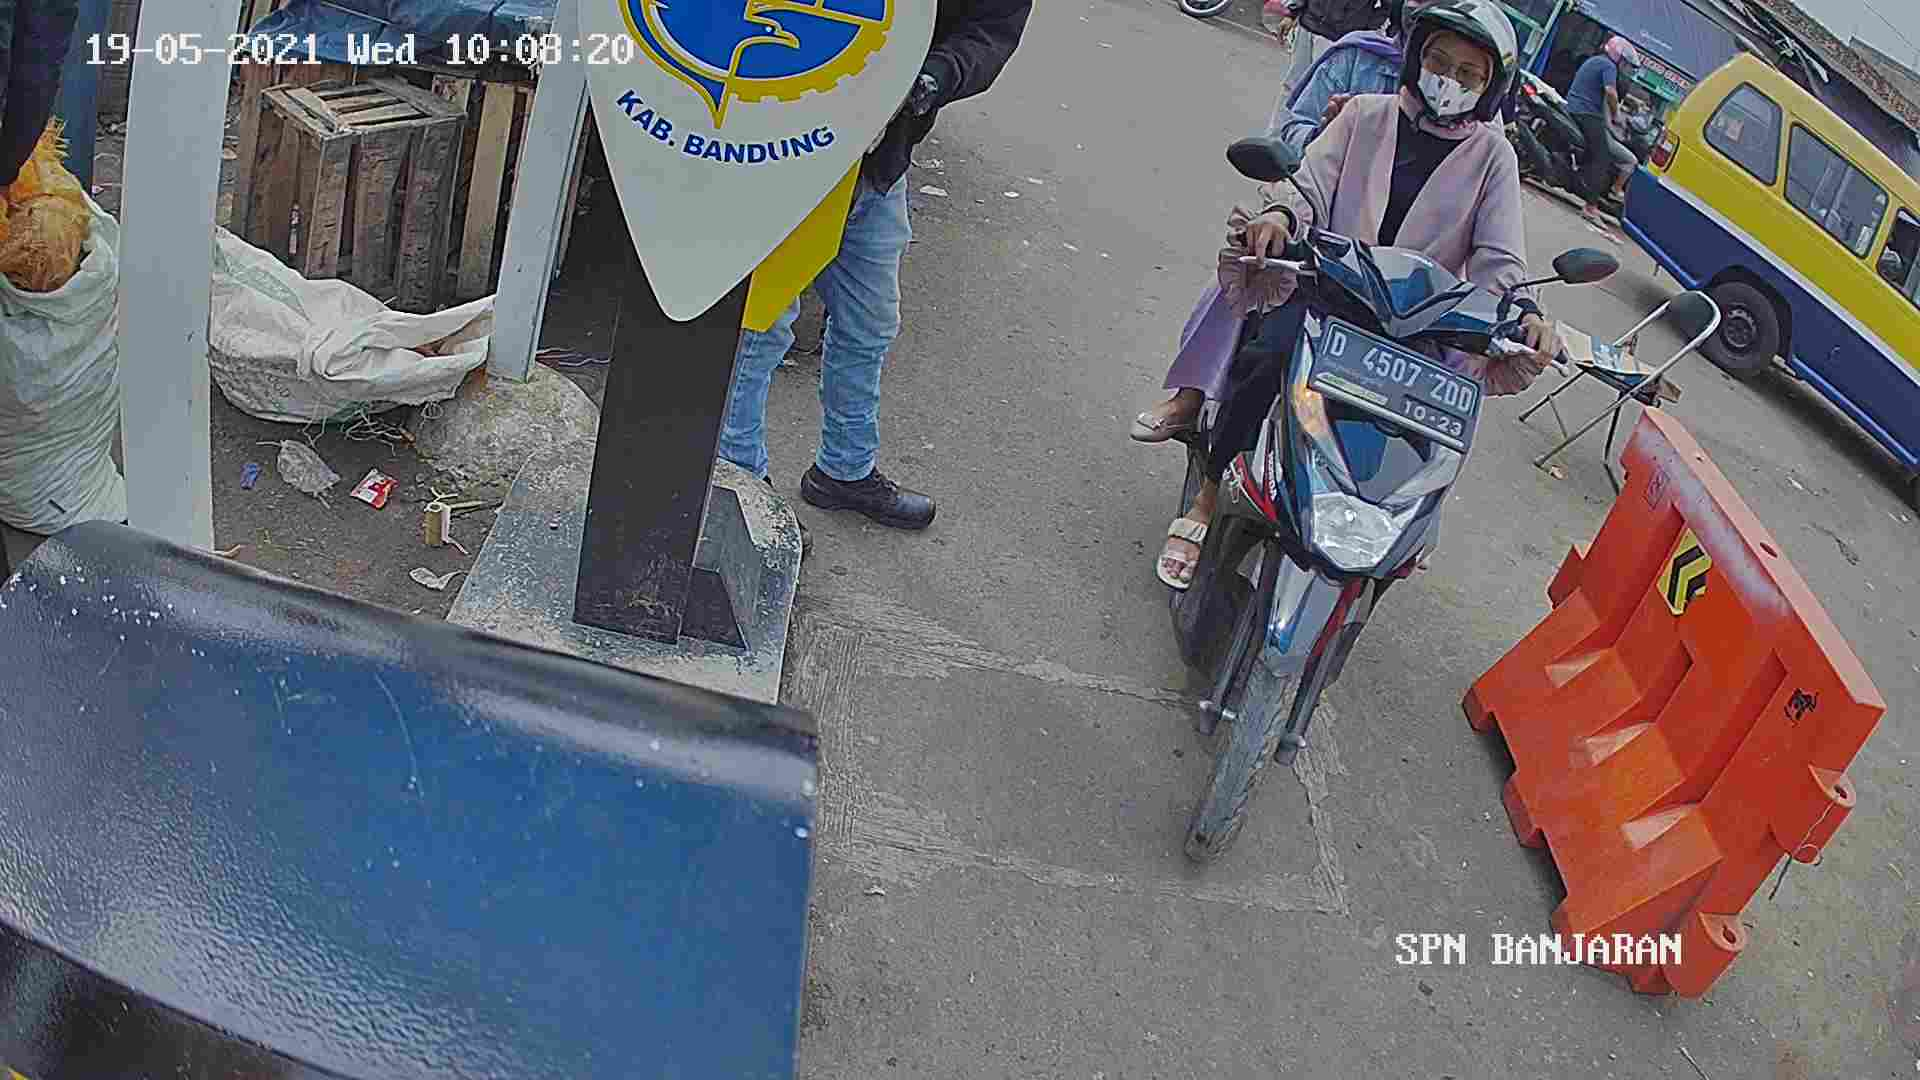motor: (1142, 185, 1495, 862)
